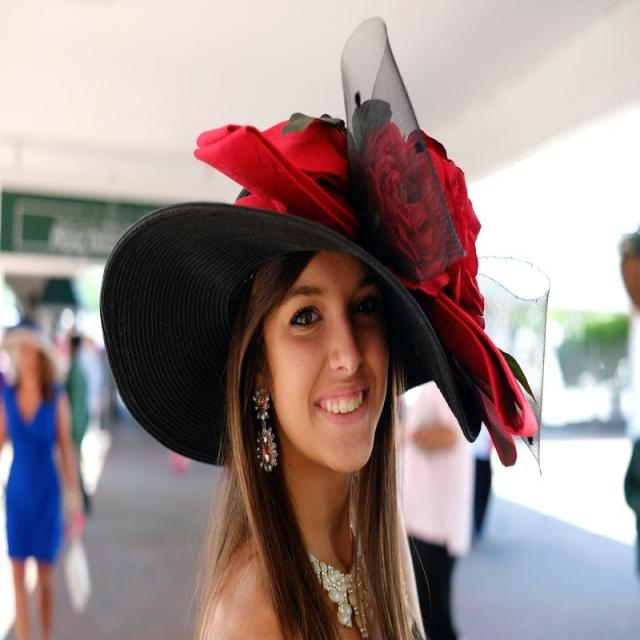hat: (101, 114, 492, 478)
